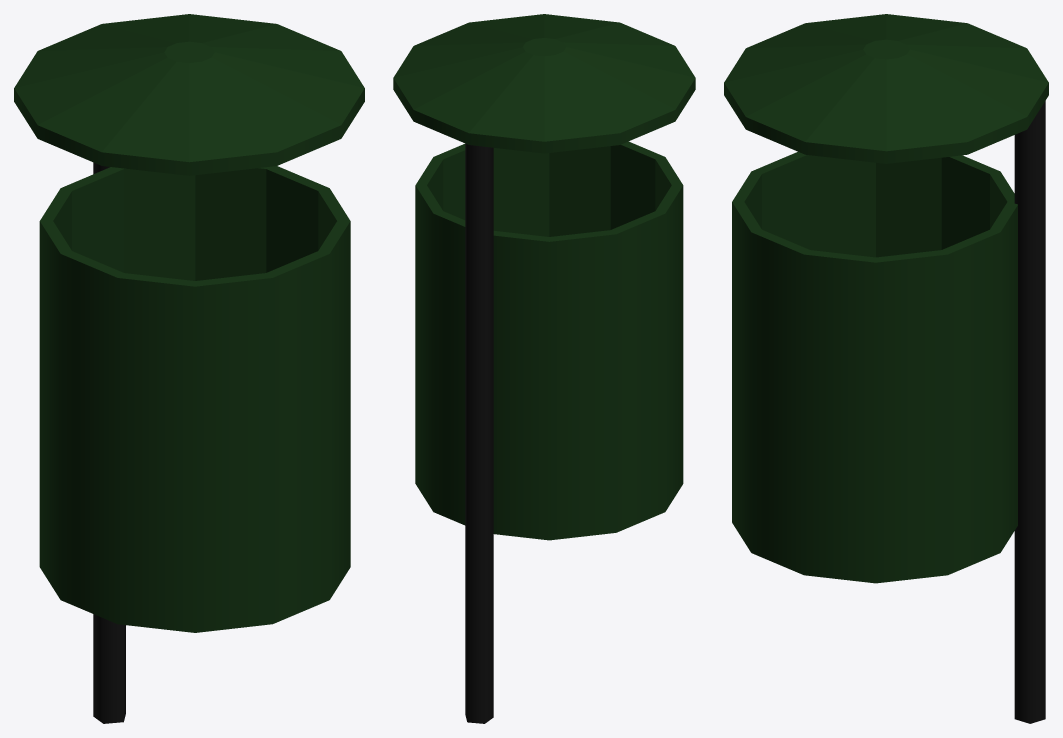
The model's file is SM_trashbin_park.fbx.
The picture shows the model from 3 angles, left to right: view 1: azimuth 30°, elevation 25°; view 2: azimuth 150°, elevation 25°; view 3: azimuth 270°, elevation 25°; orthographic projection. The views are drawn at different scales.
Visible parts, largest first — view 1: Cylinder036; view 2: Cylinder036; view 3: Cylinder036.
Part boxes in pixels (bbox=[...]): Cylinder036: bbox=[14, 14, 364, 723]; Cylinder036: bbox=[393, 14, 695, 723]; Cylinder036: bbox=[724, 14, 1048, 723].
Size of the model in its own units: 18.9 by 42.89 by 18.9.
